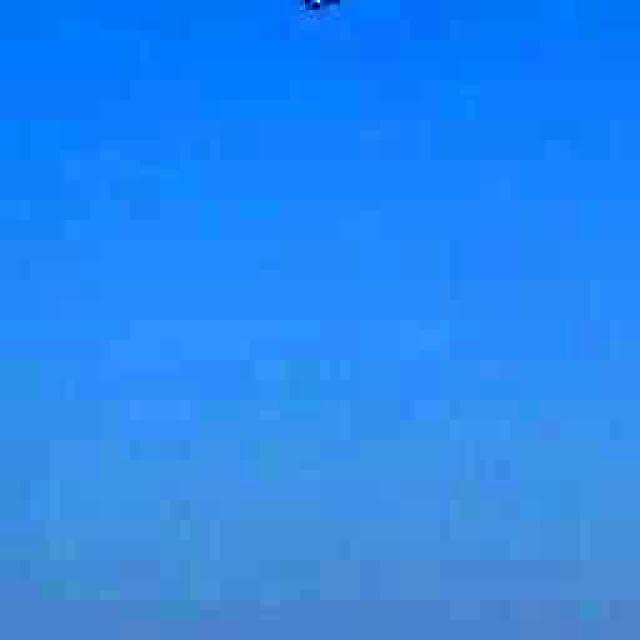bird: (270, 0, 368, 44)
